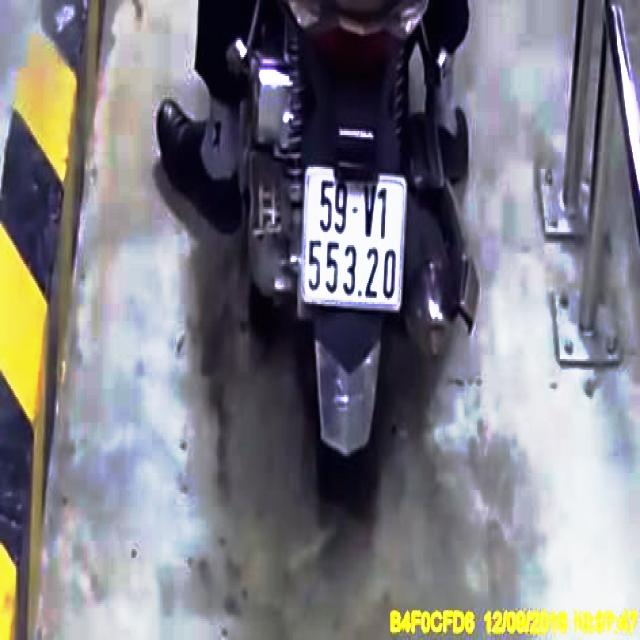license_plate: (301, 166, 407, 311)
